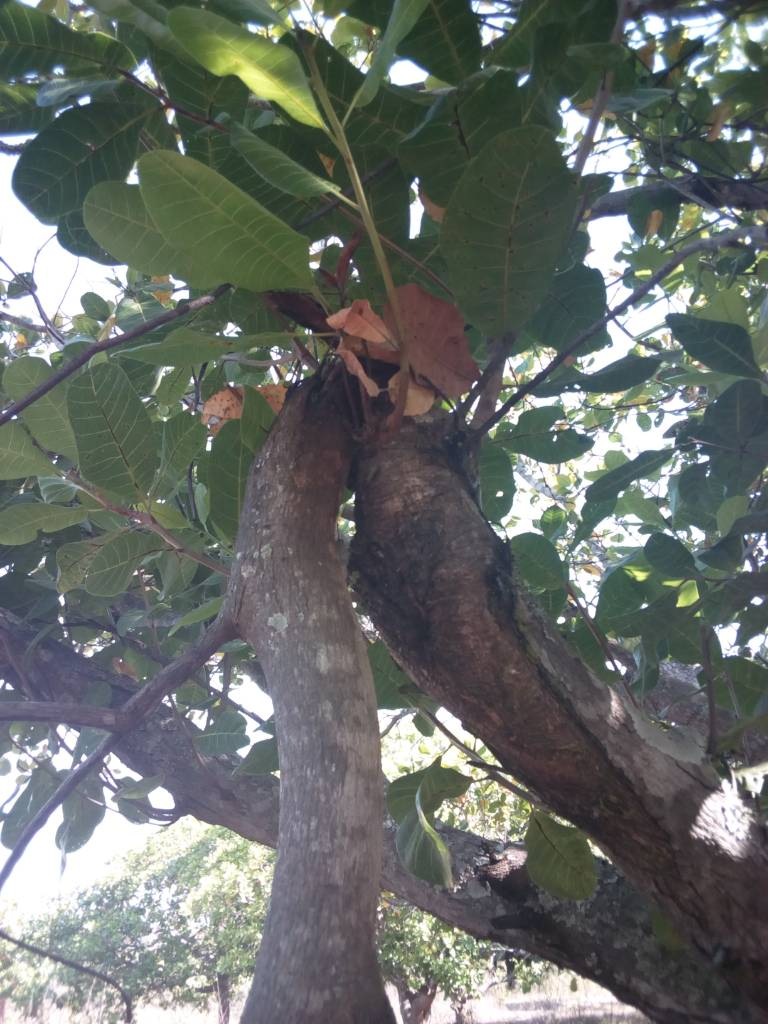Anthracnose: (440, 125, 579, 344)
